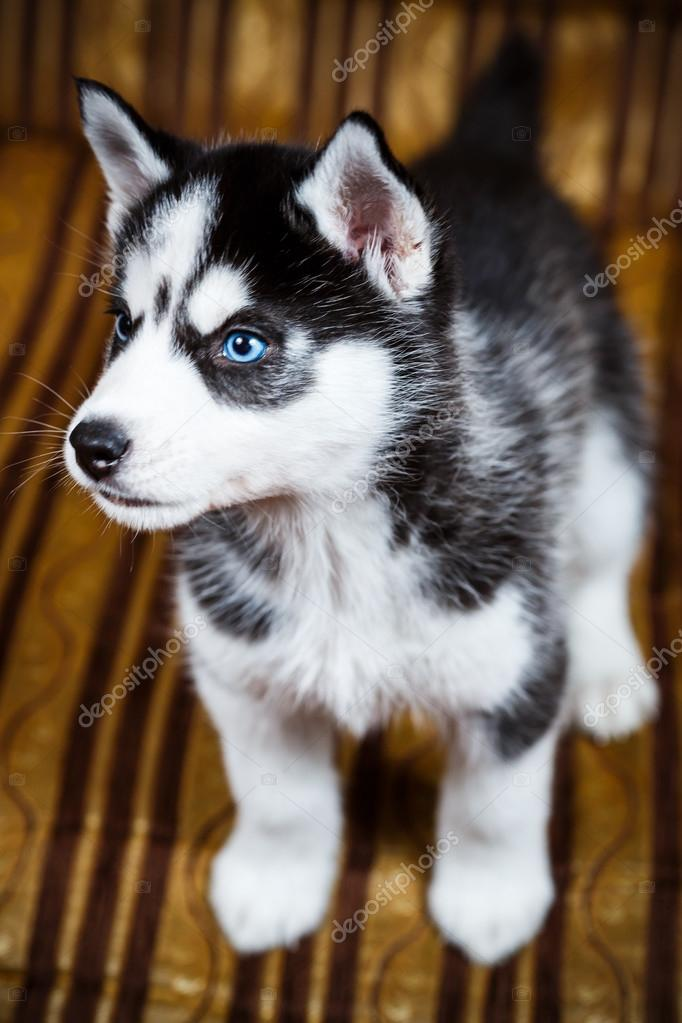husky: (20, 39, 638, 928)
